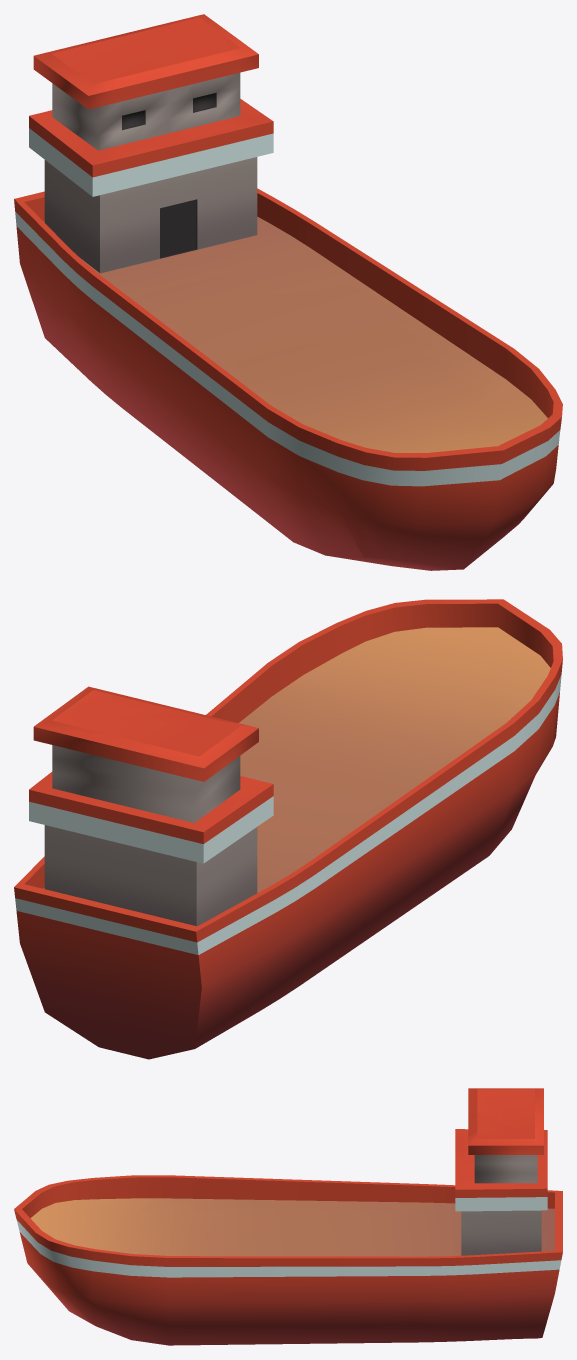
File: ship.fbx
3 renders of one model, top to bottom at view 1: azimuth 30°, elevation 25°; view 2: azimuth 150°, elevation 25°; view 3: azimuth 270°, elevation 25°, orthographic. The views are drawn at different scales.
Visible parts, largest first — view 1: Carrier_Ship.001; view 2: Carrier_Ship.001; view 3: Carrier_Ship.001.
Part boxes in pixels (x1,y1,x2,y2): Carrier_Ship.001: (14,14,562,570); Carrier_Ship.001: (14,599,562,1059); Carrier_Ship.001: (14,1088,562,1345).
Size of the model in its own units: 678 by 825 by 1900.
